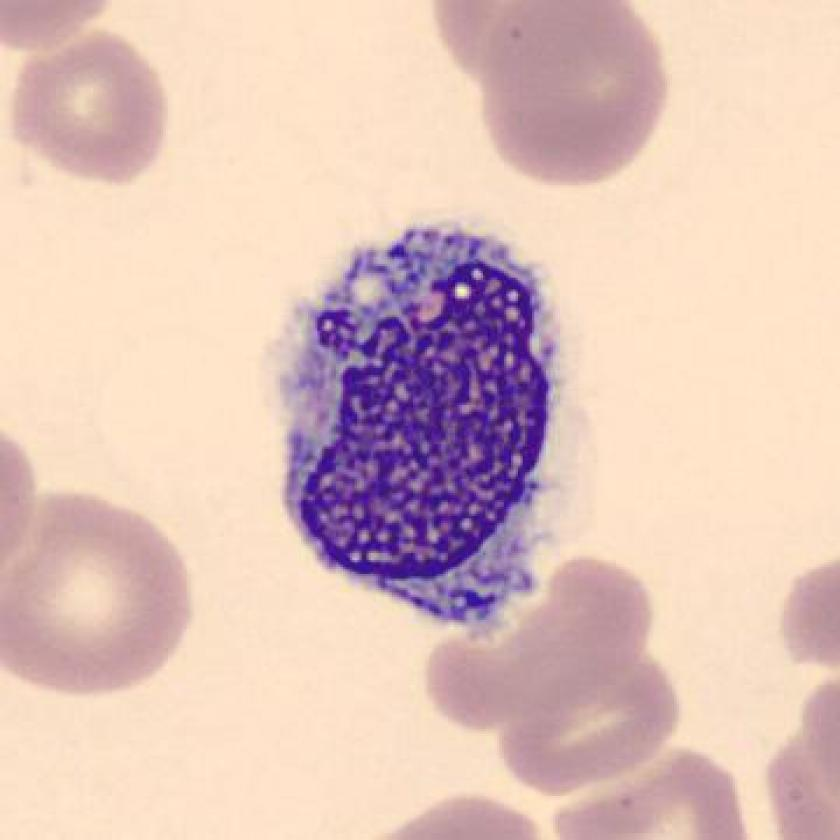monocyte: (267, 202, 598, 649)
